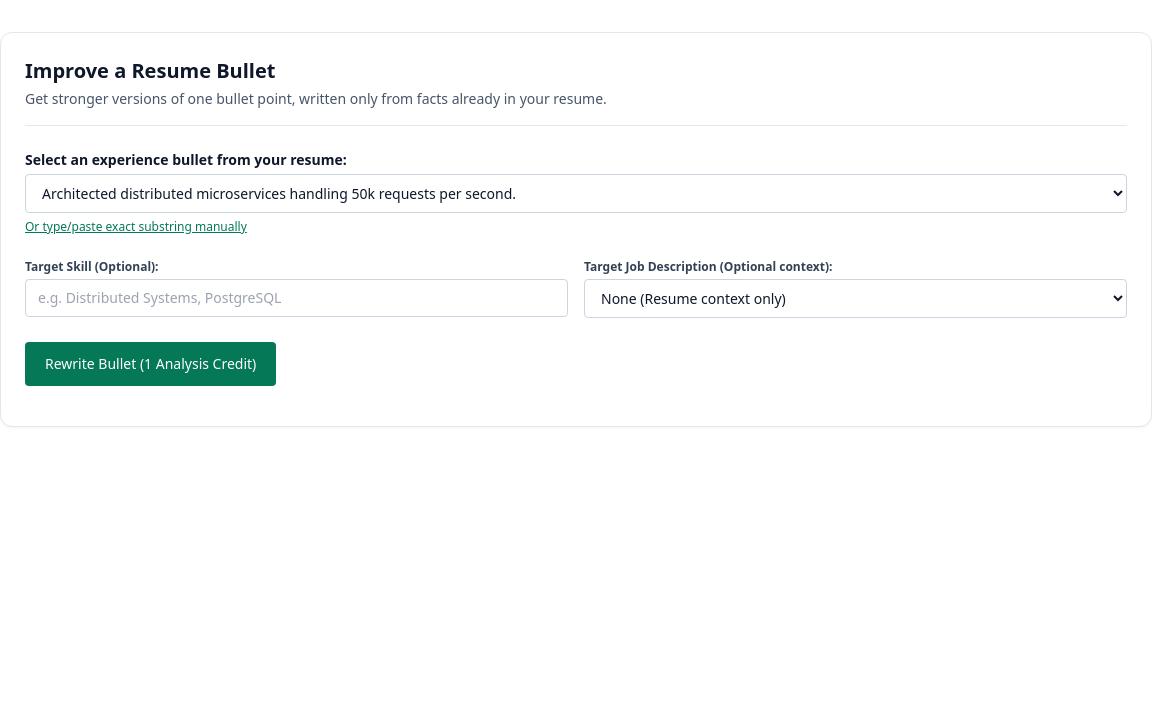
Test: BulletEditor Component › handles timeout state with retry
The width and height of the screenshot is (1152, 720).
Click the button "Rewrite Bullet (1 Analysis Credit)" at point(151, 364), box 25,342 -> 276,386
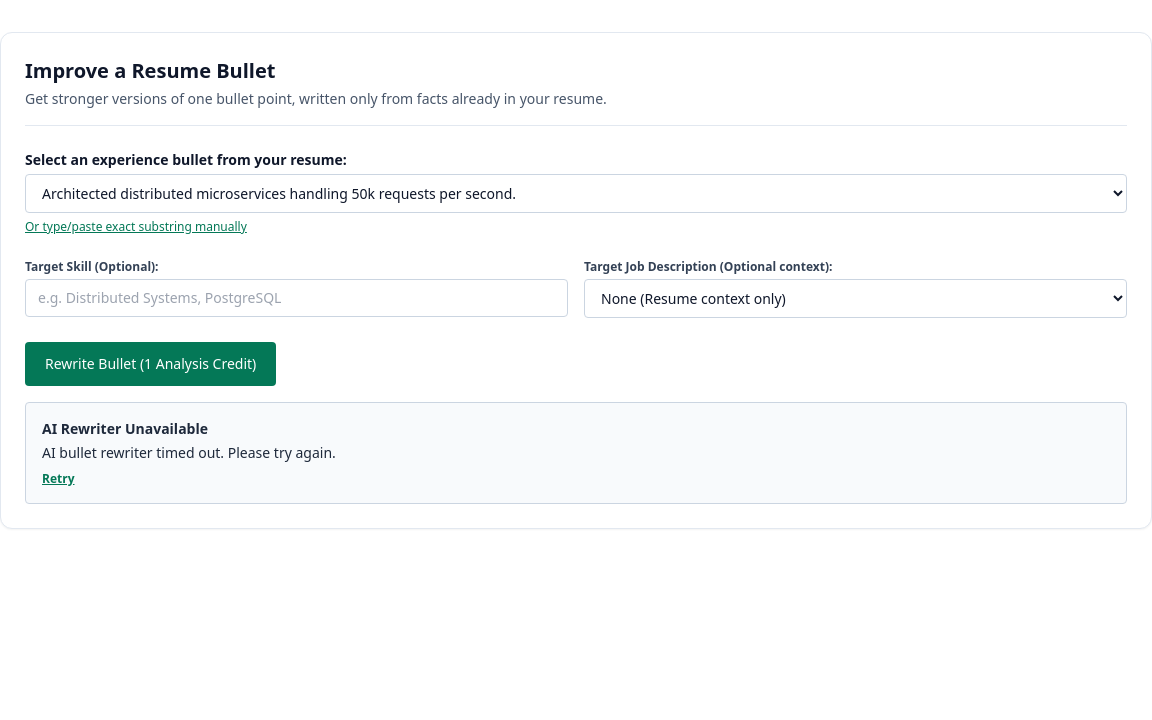
Expected: the text "AI bullet rewriter timed out. Please try again." is shown, 42,443 -> 336,462
Expected: the button "Retry" is shown, 42,471 -> 74,487
